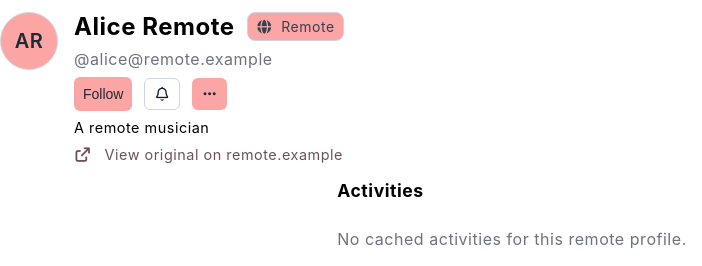
Test: RemoteProfileView › follows and unfollows a remote actor
The width and height of the screenshot is (702, 266).
What coordinates should you click on to do the following:
click the button with class "remote-profile__follow"
I would click on:
 (103, 94)
Its box is 74,77 -> 132,111.
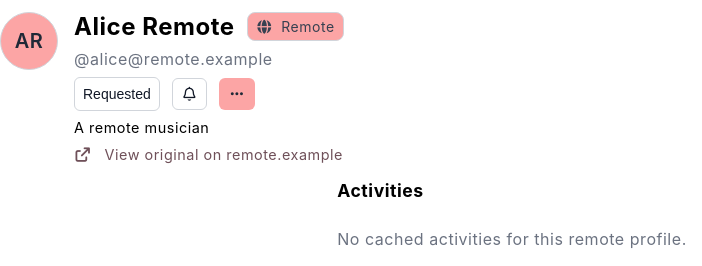
Result: the button with class "remote-profile__follow" reads "Requested"
What coordinates should you click on to do the following:
click the button with class "remote-profile__follow"
I would click on:
 (117, 94)
Its box is 74,77 -> 160,111.
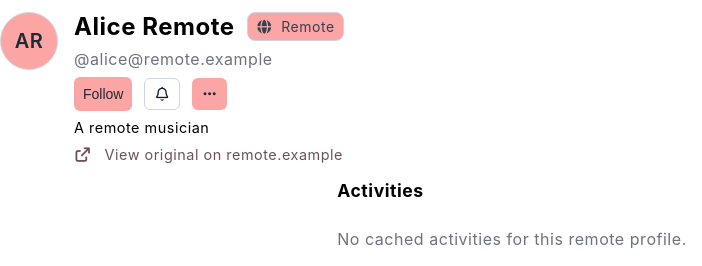
Result: the button with class "remote-profile__follow" reads "Follow" at 74,77 -> 132,111
